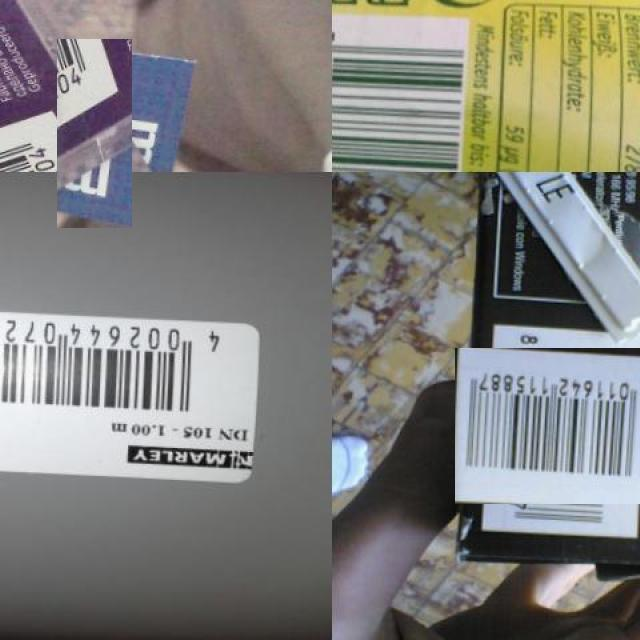Barcode: (0, 299, 264, 477), (469, 333, 640, 519), (332, 3, 473, 172), (28, 68, 161, 200)
